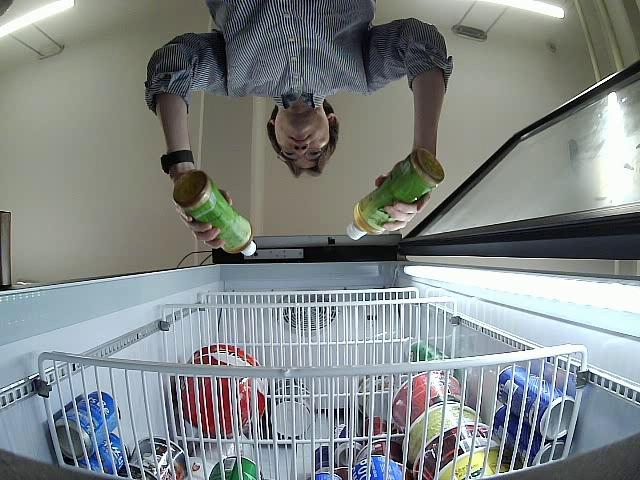00_hand: (373, 174, 430, 233), (176, 188, 232, 248)
19_17cha: (346, 149, 444, 241), (173, 171, 258, 258)
